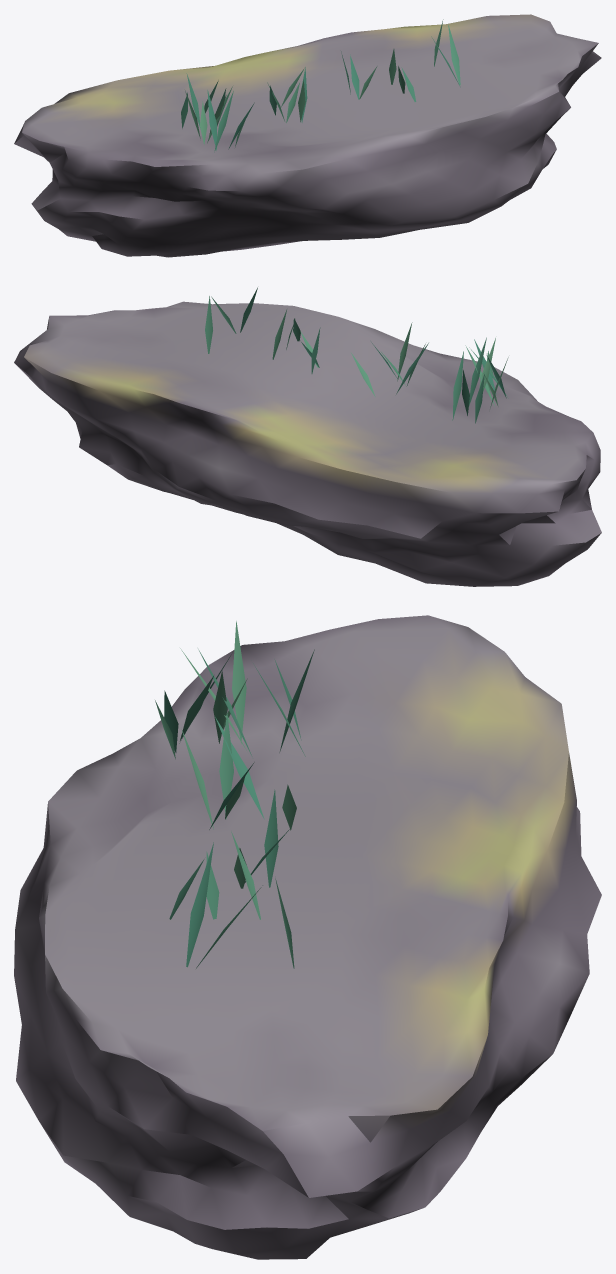
The model's file is climb_ledge.glb.
The picture shows the model from 3 angles, top to bottom: view 1: azimuth 30°, elevation 25°; view 2: azimuth 150°, elevation 25°; view 3: azimuth 270°, elevation 25°; orthographic projection. The views are drawn at different scales.
Visible parts, largest first — view 1: climb_ledge; view 2: climb_ledge; view 3: climb_ledge.
Part boxes in pixels (x1=…): climb_ledge: x1=14, y1=14, x2=601, y2=257; climb_ledge: x1=14, y1=287, x2=601, y2=586; climb_ledge: x1=14, y1=615, x2=601, y2=1259.
Size of what is drawn, in the model's own units: 2.49 by 0.838 by 1.2.
